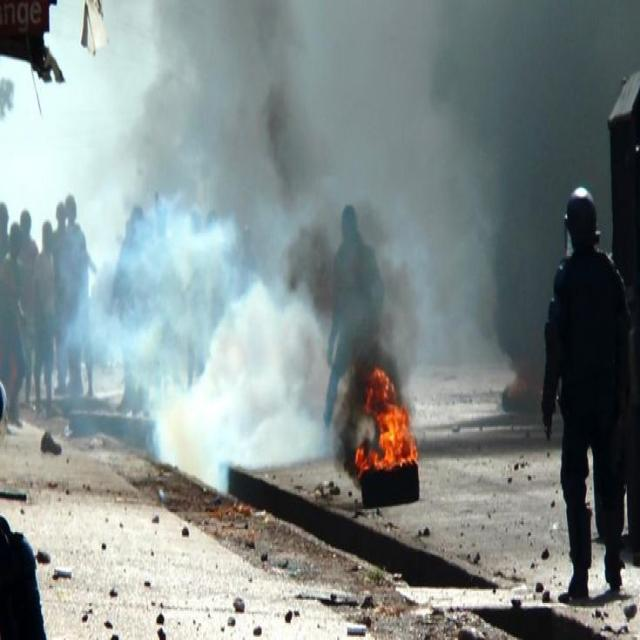fire: (357, 372, 419, 473)
smoke: (152, 202, 286, 448)
